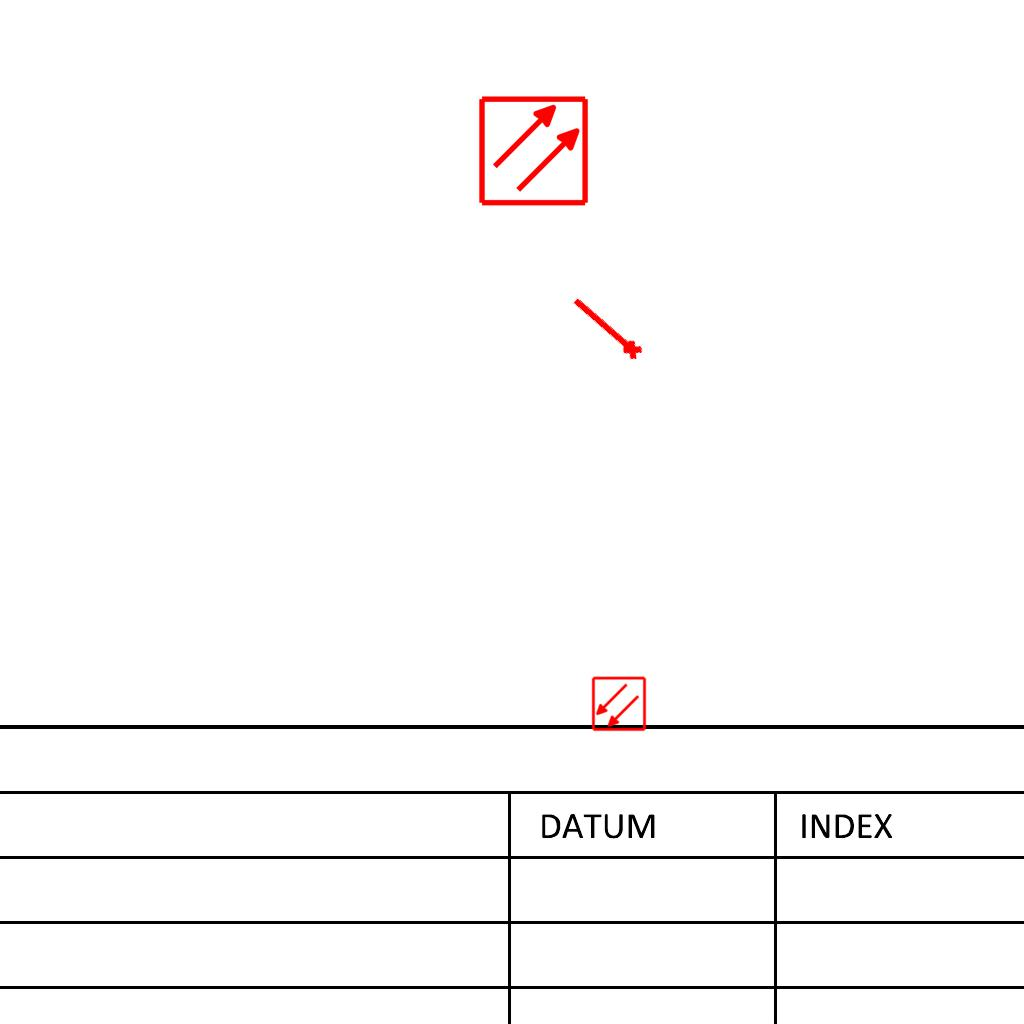ASR_Ansaugoeffnung: (565, 290, 647, 367)
RMO_Rauchmelder_optischer: (477, 94, 590, 207), (591, 676, 647, 732)
